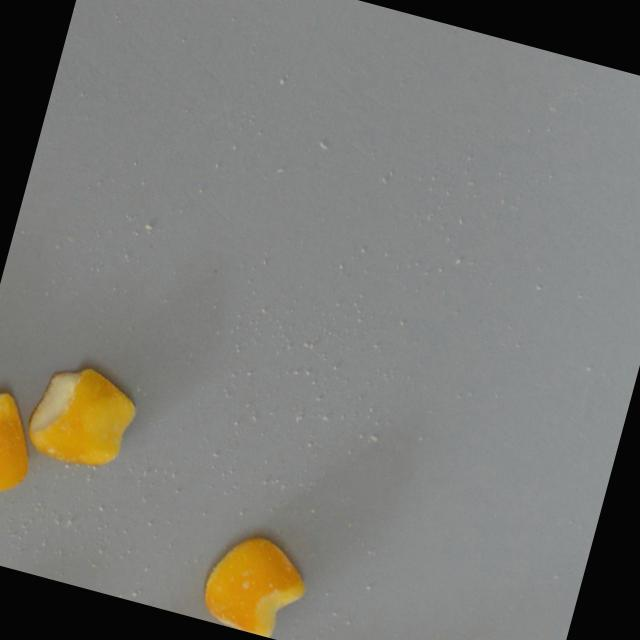pelicula: (19, 353, 145, 476), (196, 523, 316, 640), (0, 389, 47, 505)
